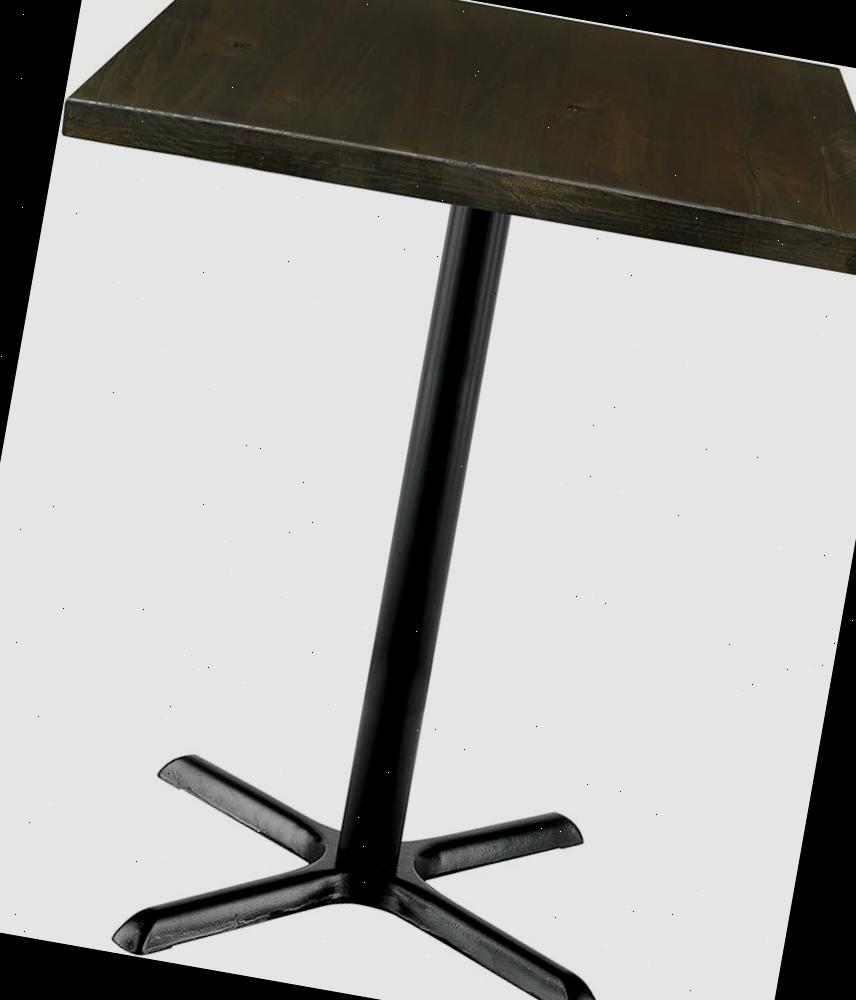Clean Table: (29, 0, 856, 447)
